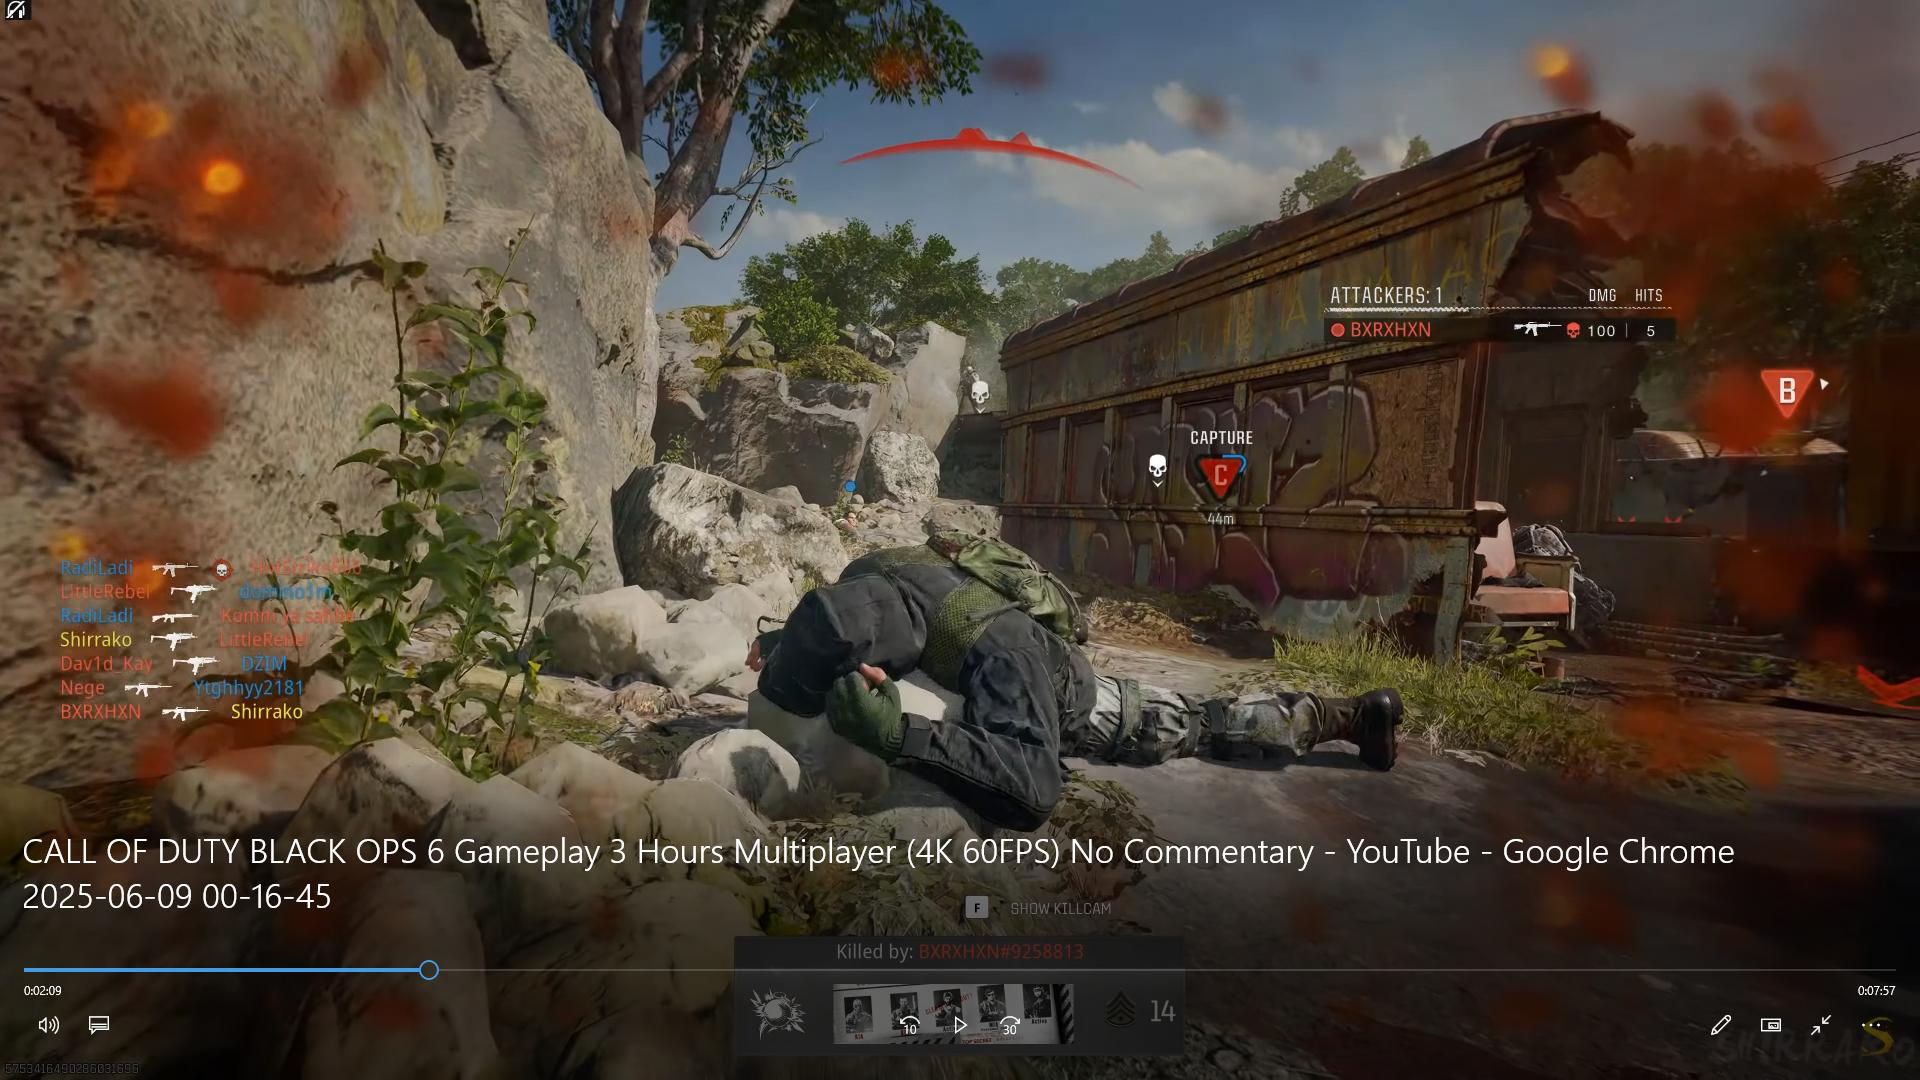Enemy: (955, 360, 977, 415)
